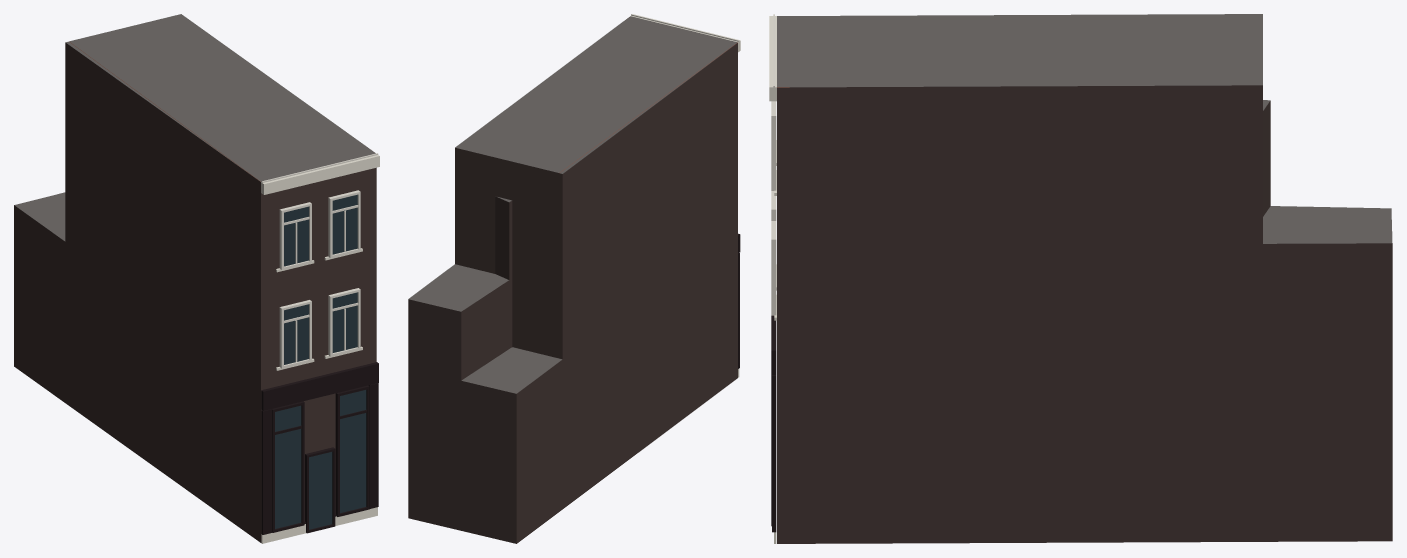
The picture shows the model from 3 angles, left to right: view 1: azimuth 30°, elevation 25°; view 2: azimuth 150°, elevation 25°; view 3: azimuth 270°, elevation 25°; orthographic projection. The views are drawn at different scales.
Parts seen in each view (by area): view 1: spec-0363100012167816; view 2: spec-0363100012167816; view 3: spec-0363100012167816.
Boxes of the visible parts, x1,y1,x2,y2 form: spec-0363100012167816: [14, 14, 379, 543]; spec-0363100012167816: [408, 14, 740, 543]; spec-0363100012167816: [769, 14, 1392, 543].
Size of the model in its own units: 4.04 by 11.64 by 14.35.
